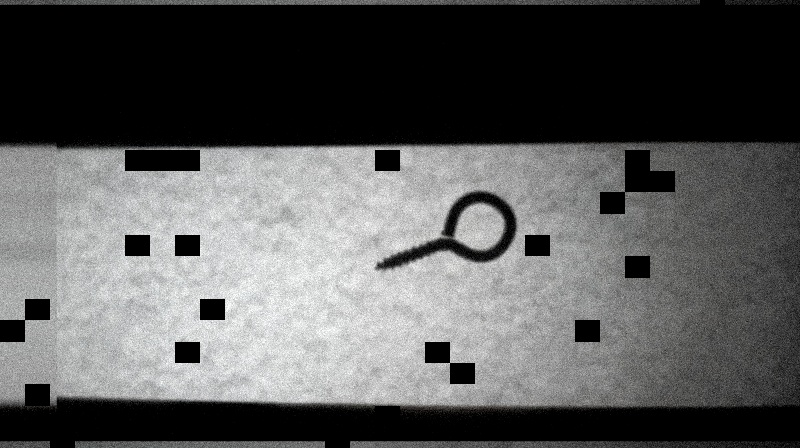O001: (371, 187, 521, 276)
